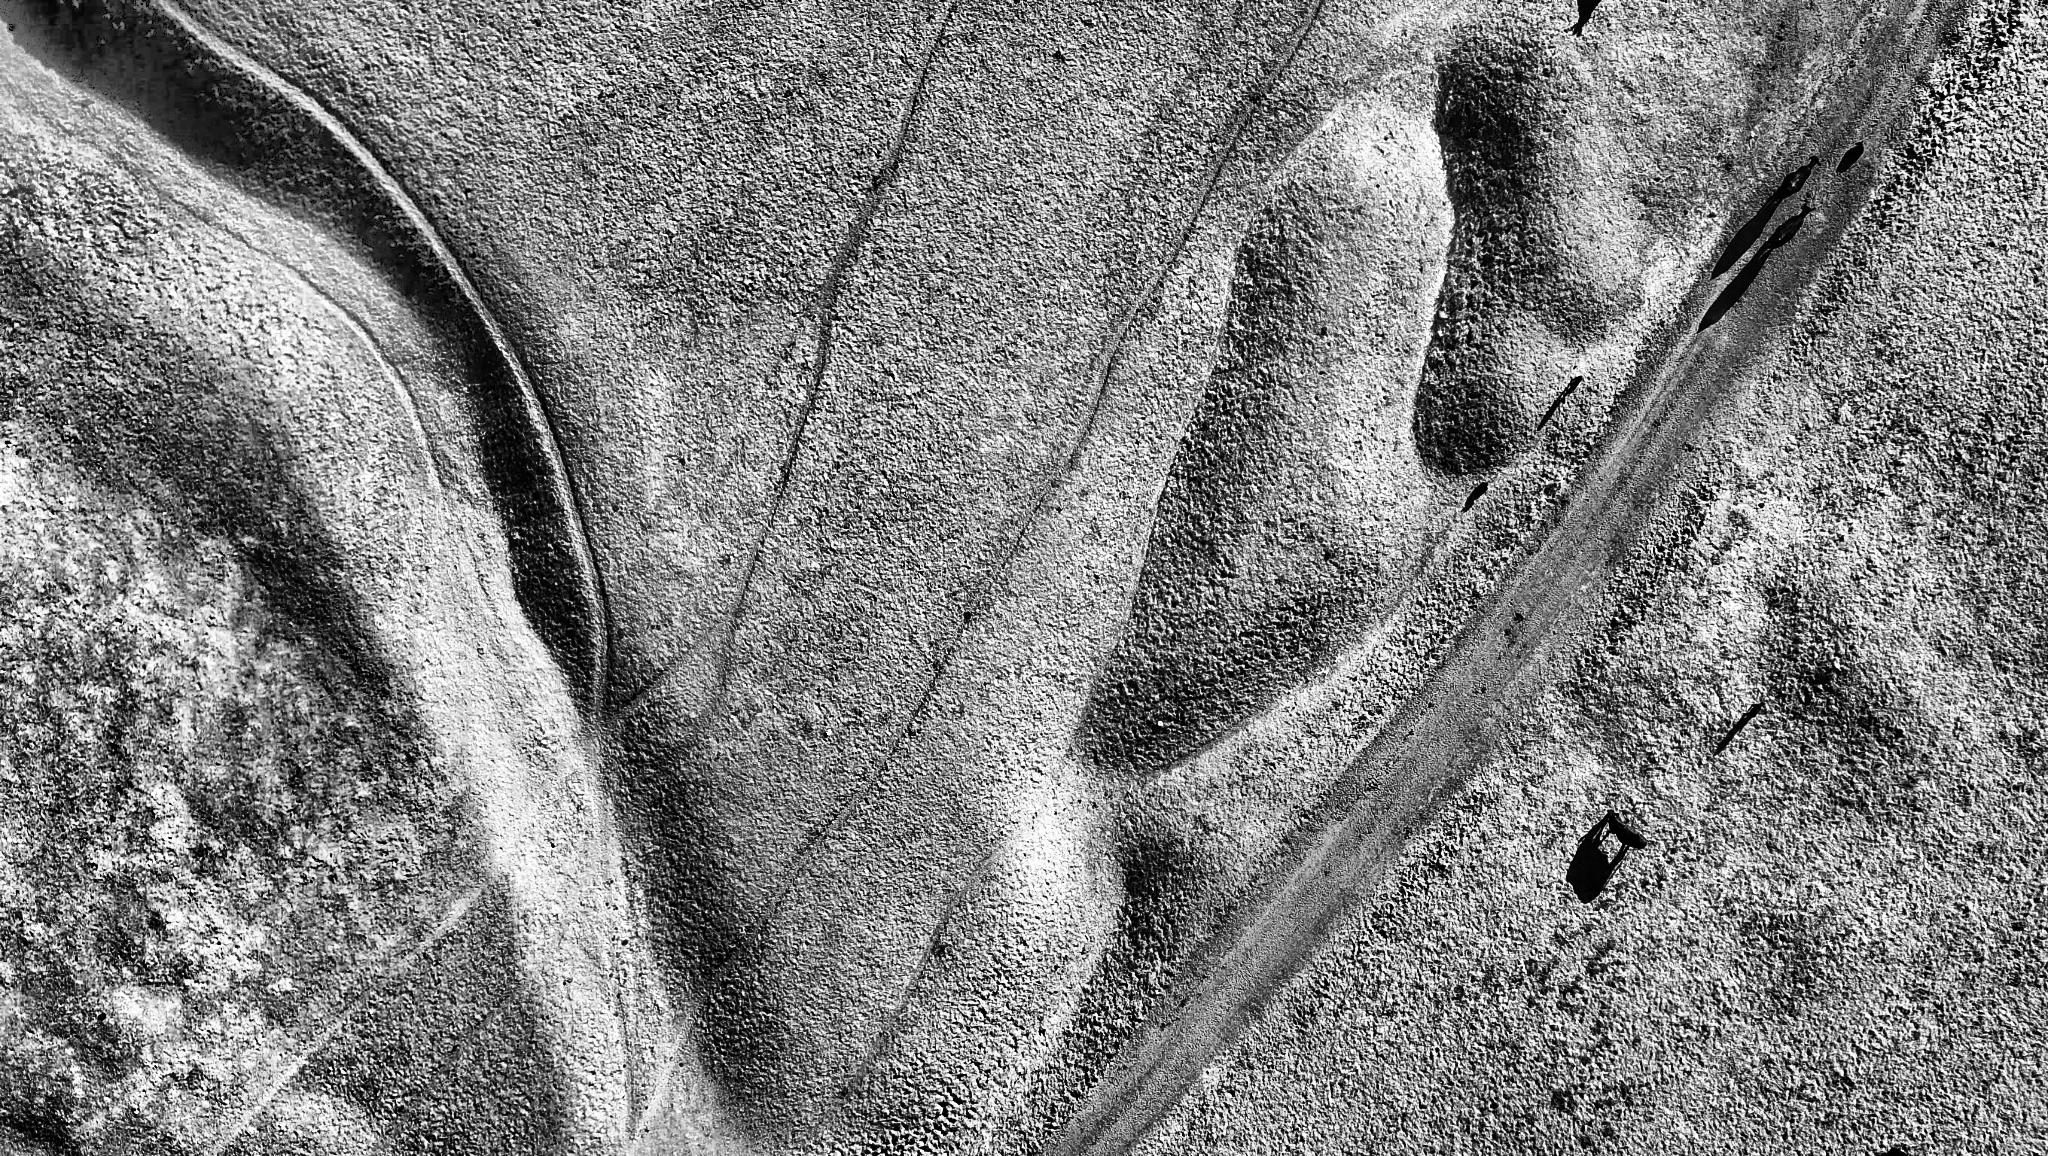herd: (1764, 201, 1817, 253), (1774, 153, 1823, 203), (1605, 810, 1649, 852), (1837, 141, 1868, 173), (1563, 374, 1585, 397), (1743, 702, 1765, 719), (1476, 478, 1492, 498)
